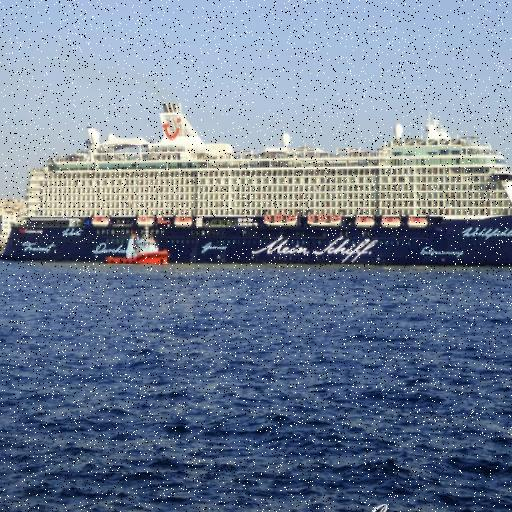cruises: (1, 100, 512, 277)
